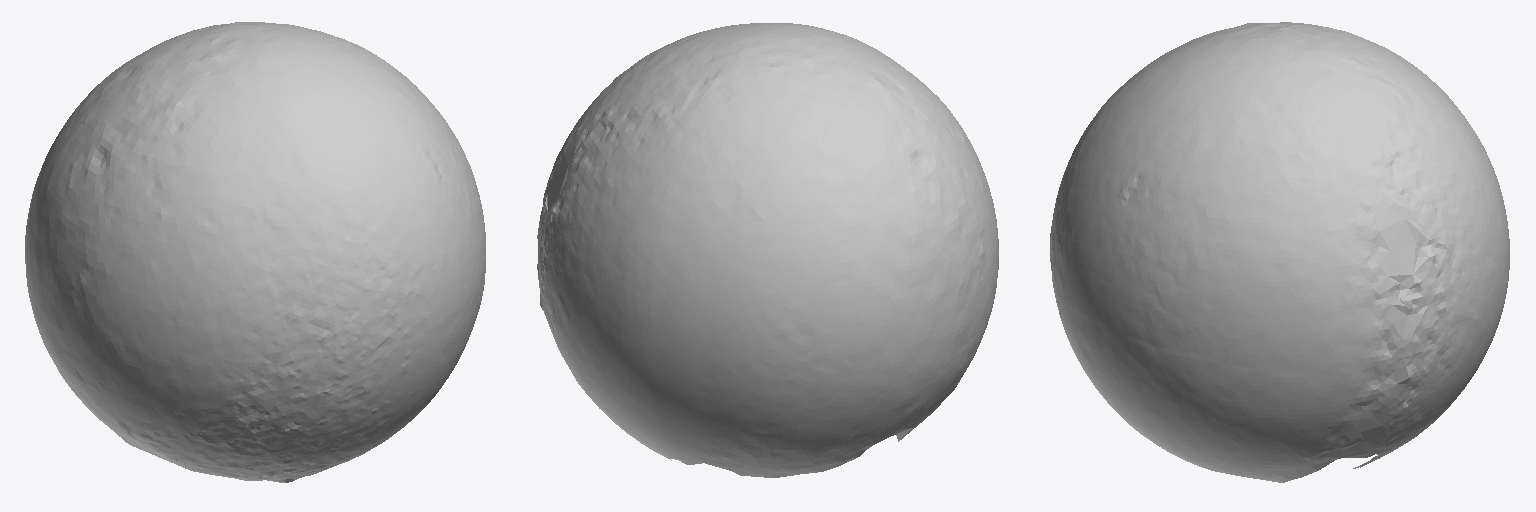
File: Gridtest_1_0_0.000001.obj
The picture shows the model from 3 angles: view 1: azimuth 30°, elevation 25°; view 2: azimuth 150°, elevation 25°; view 3: azimuth 270°, elevation 25°; orthographic projection.
Bounding box in the file's own units: 298 × 304 × 298.